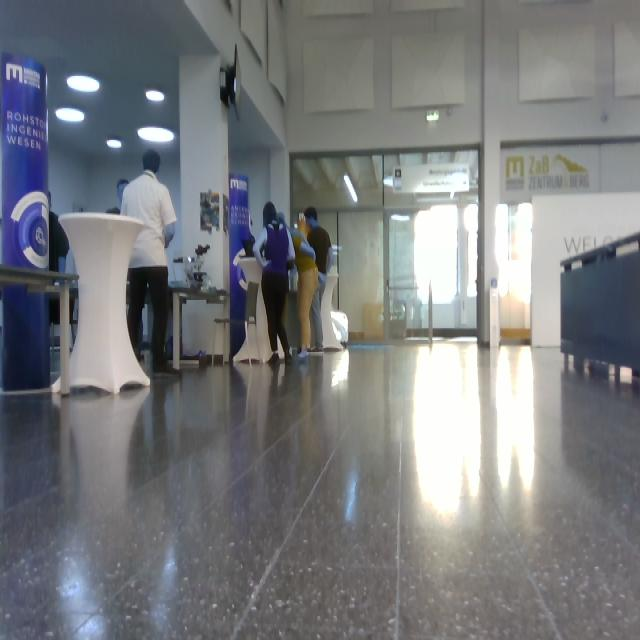door: (386, 204, 478, 338), (338, 209, 385, 340)
light bulb: (137, 126, 175, 144), (67, 74, 100, 93), (343, 173, 359, 204), (55, 107, 85, 123), (464, 204, 479, 233), (146, 89, 165, 102), (106, 138, 122, 149)
person: (120, 149, 183, 378), (253, 201, 296, 365), (277, 212, 320, 358), (303, 206, 334, 352)
pillar: (1, 52, 52, 393), (58, 212, 151, 394)
tiled floor: (1, 337, 639, 638)
